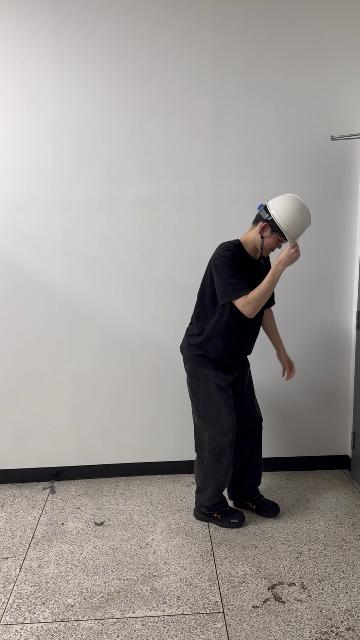helmet_worn: (260, 192, 314, 247)
shoe_worn: (194, 501, 246, 528), (230, 492, 278, 517)
vest_not_worn: (186, 240, 271, 378)
